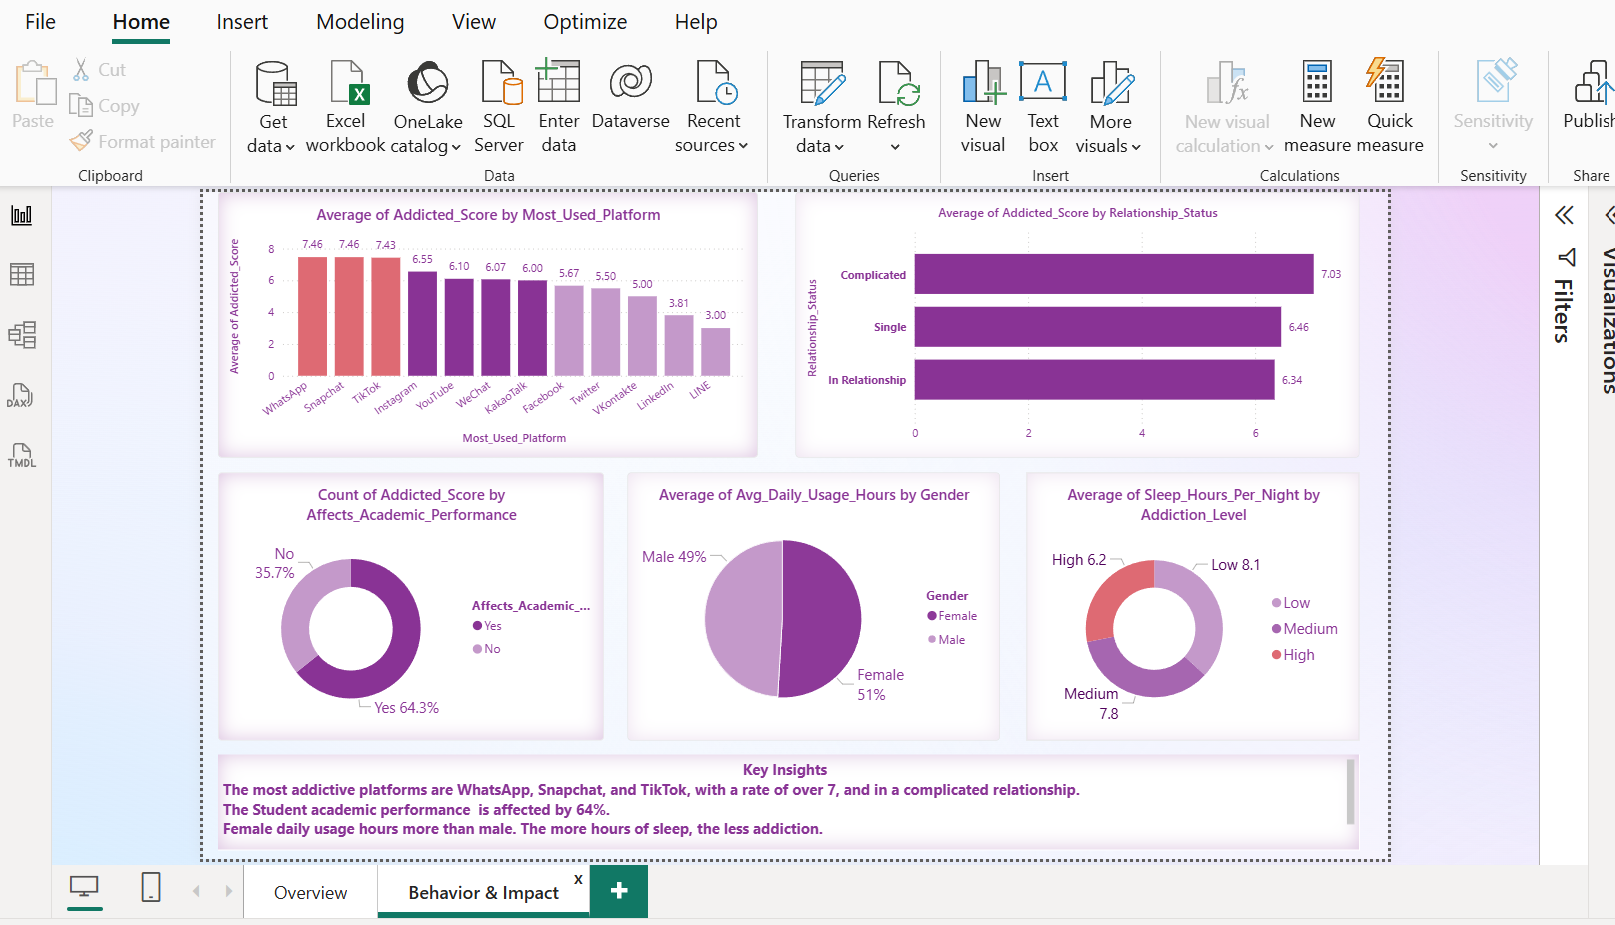

The page's visual inventory and layout, read from the dashboard file:
{"tool":"powerbi","page":{"name":"Behavior & Impact","canvas":[1280,720],"ordinal":1},"visuals":[{"type":"donutChart","fields":{"Category":["Students Social Media Addiction.Addiction_Level"],"Y":["Avg(Students Social Media Addiction.Sleep_Hours_Per_Night)"]},"box":[888.4,302.6,359.6,289.6],"z":0},{"type":"barChart","fields":{"Category":["Students Social Media Addiction.Relationship_Status"],"Y":["Avg(Students Social Media Addiction.Addicted_Score)"]},"box":[639.5,0,608.5,286.4],"z":1000},{"type":"pieChart","fields":{"Category":["Students Social Media Addiction.Gender"],"Y":["Avg(Students Social Media Addiction.Avg_Daily_Usage_Hours)"]},"box":[458.8,302.6,401.9,289.6],"z":2000},{"type":"donutChart","fields":{"Y":["CountNonNull(Students Social Media Addiction.Addicted_Score)"],"Category":["Students Social Media Addiction.Affects_Academic_Performance"]},"box":[16.3,302.6,416.5,289.6],"z":3000},{"type":"textbox","box":[16.3,606.9,1231.7,102.5],"z":4000},{"type":"columnChart","fields":{"Y":["Avg(Students Social Media Addiction.Addicted_Score)"],"Category":["Students Social Media Addiction.Most_Used_Platform"]},"box":[16.3,0,582.5,286.4],"z":5000}]}

Visuals, with their boxes on the page's 1280x720 design canvas (x1, y1, x2, y2). These are canvas units, not pixel positions in the 1615x925 screenshot, which may show the page scaled, cropped or inside an application window:
donutChart - Students Social Media Addiction.Addiction_Level x Avg(Students Social Media Addiction.Sleep_Hours_Per_Night): 888, 303, 1248, 592
barChart - Students Social Media Addiction.Relationship_Status x Avg(Students Social Media Addiction.Addicted_Score): 640, 0, 1248, 286
pieChart - Students Social Media Addiction.Gender x Avg(Students Social Media Addiction.Avg_Daily_Usage_Hours): 459, 303, 861, 592
donutChart - CountNonNull(Students Social Media Addiction.Addicted_Score) x Students Social Media Addiction.Affects_Academic_Performance: 16, 303, 433, 592
textbox: 16, 607, 1248, 709
columnChart - Avg(Students Social Media Addiction.Addicted_Score) x Students Social Media Addiction.Most_Used_Platform: 16, 0, 599, 286
